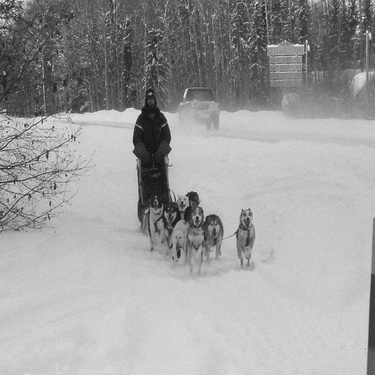dog: (123, 198, 173, 254), (233, 203, 260, 278), (201, 210, 230, 272), (157, 204, 186, 260), (162, 224, 191, 274), (189, 201, 206, 277), (169, 182, 194, 233), (187, 181, 206, 232)
